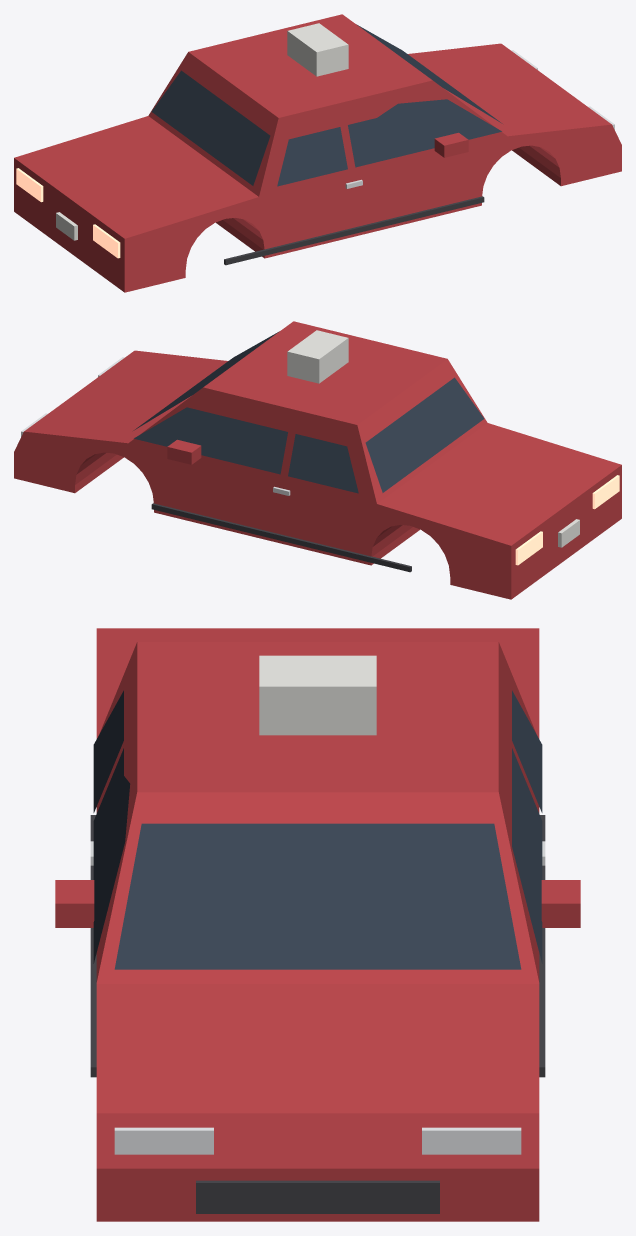
The model's file is SM_Veh_Taxi.fbx.
3 views of the same model, one above another, from view 1: azimuth 30°, elevation 25°; view 2: azimuth 150°, elevation 25°; view 3: azimuth 270°, elevation 25° (orthographic). The views are drawn at different scales.
Visible parts, largest first — view 1: SM_Veh_Taxi; view 2: SM_Veh_Taxi; view 3: SM_Veh_Taxi.
Part boxes in pixels (x1,y1,x2,y2): SM_Veh_Taxi: (14, 14, 621, 292); SM_Veh_Taxi: (14, 321, 621, 599); SM_Veh_Taxi: (55, 628, 580, 1221).
Bounding box in the file's own units: 476 × 215 × 139.
